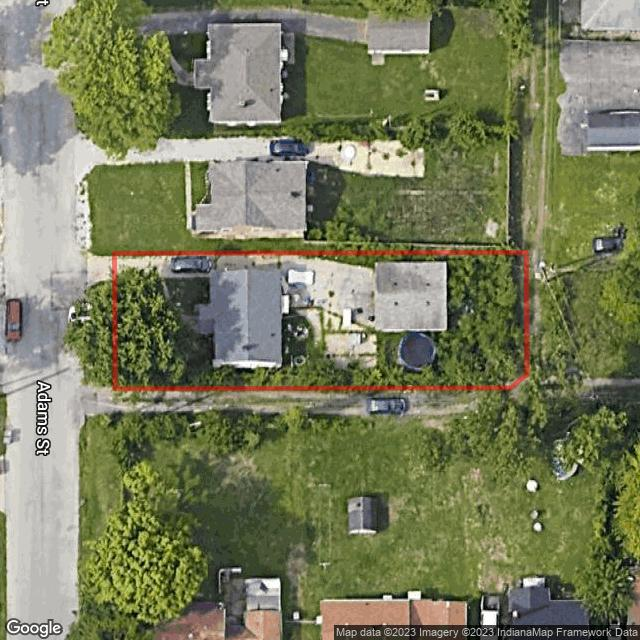Driveway: (118, 255, 376, 329)
Extra Driveway: (87, 252, 112, 290)
House: (210, 269, 282, 368)
Other: (292, 308, 378, 368), (376, 262, 448, 331), (398, 332, 436, 371)
Sidewalk: (162, 278, 214, 334)
